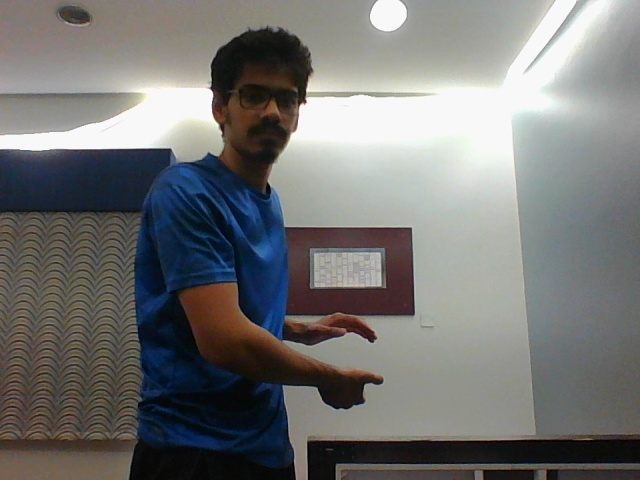charge: (309, 310, 386, 411)
